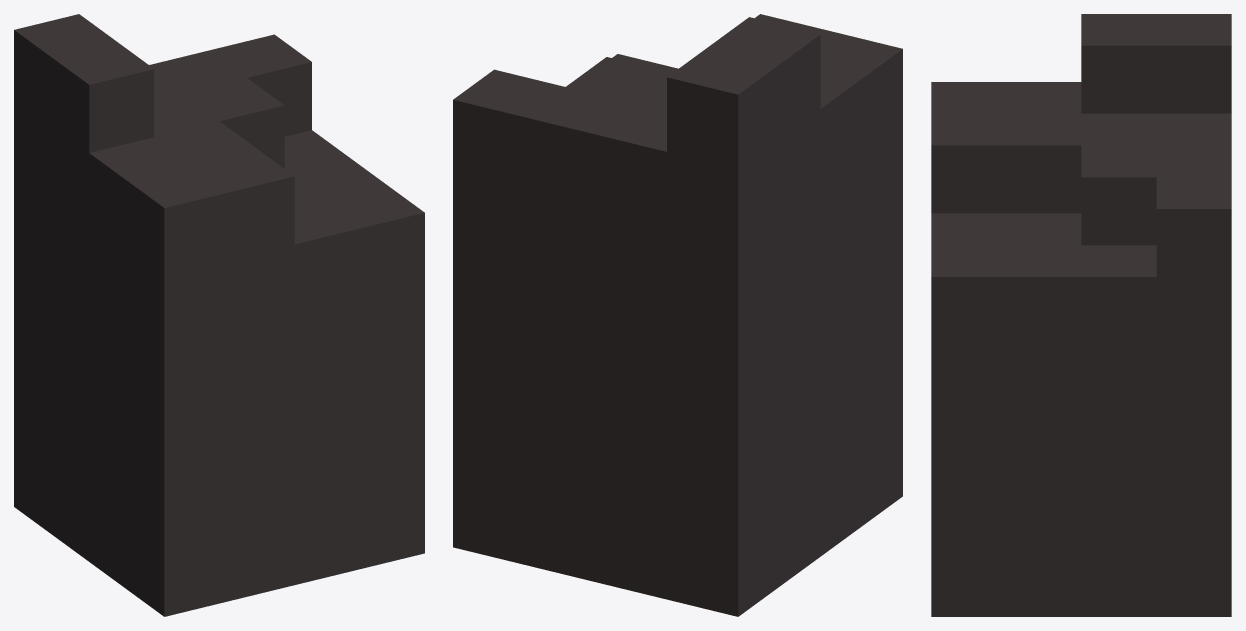
The model's file is panda__leg_br.glb.
The picture shows the model from 3 angles, left to right: view 1: azimuth 30°, elevation 25°; view 2: azimuth 150°, elevation 25°; view 3: azimuth 270°, elevation 25°; orthographic projection. The views are drawn at different scales.
Parts seen in each view (by area): view 1: panda__leg_br; view 2: panda__leg_br; view 3: panda__leg_br.
Boxes of the visible parts, <box> form: panda__leg_br: <box>14,14,424,616</box>; panda__leg_br: <box>453,14,902,616</box>; panda__leg_br: <box>931,14,1231,616</box>.
Size of the model in its own units: 0.4 by 0.7 by 0.4.
Materials: 1 (1 with a texture image).
